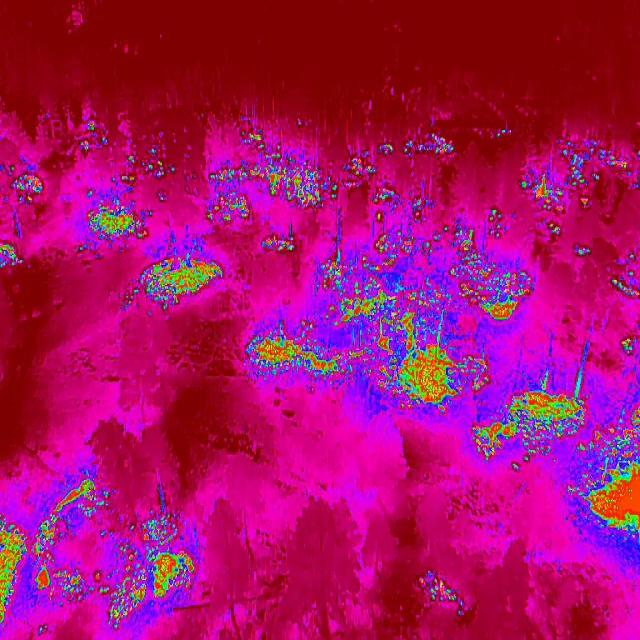fire: (27, 472, 148, 632), (200, 122, 338, 256), (314, 244, 450, 354), (466, 365, 594, 471), (450, 206, 544, 334), (382, 320, 492, 420), (573, 432, 640, 558), (241, 327, 369, 392), (126, 252, 227, 312), (78, 177, 150, 261), (122, 133, 188, 201), (1, 513, 29, 636), (572, 139, 634, 193), (380, 130, 466, 166), (370, 188, 440, 232), (146, 551, 198, 607), (517, 155, 569, 207), (0, 162, 54, 208), (144, 510, 198, 550), (74, 118, 118, 162), (339, 146, 380, 190), (605, 260, 640, 308), (548, 198, 568, 242), (622, 330, 640, 370), (1, 242, 23, 274), (575, 242, 595, 264), (625, 402, 640, 431), (576, 190, 594, 211), (497, 124, 518, 140)
